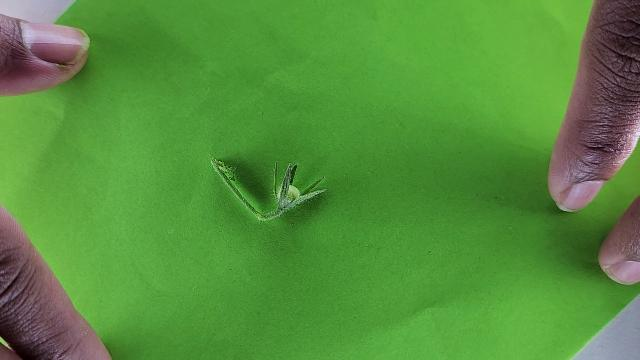Fruit Bud: (268, 161, 326, 220)
